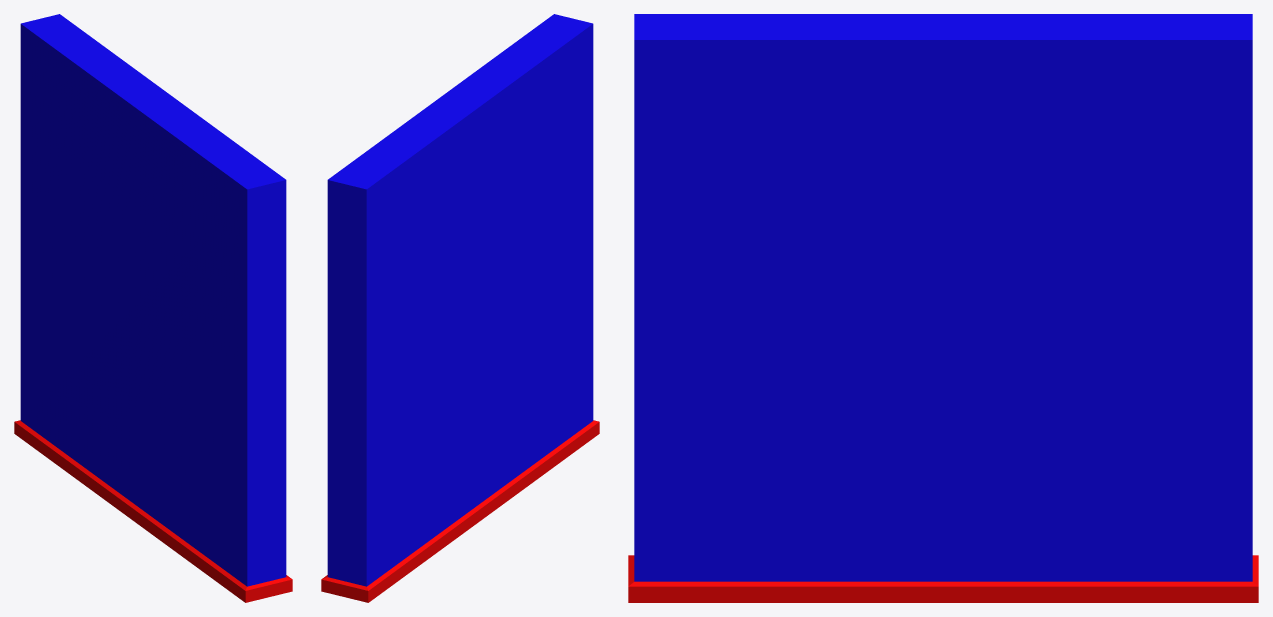
File: wall.fbx
3 views of the same model, side by side, from view 1: azimuth 30°, elevation 25°; view 2: azimuth 150°, elevation 25°; view 3: azimuth 270°, elevation 25° (orthographic). The views are drawn at different scales.
Visible parts, largest first — view 1: Wall; view 2: Wall; view 3: Wall.
Part boxes in pixels (x1,y1,x2,y2): Wall: (14,14,292,602); Wall: (321,14,599,602); Wall: (628,14,1258,602).
Size of the model in its own units: 12.02 by 100 by 102.
